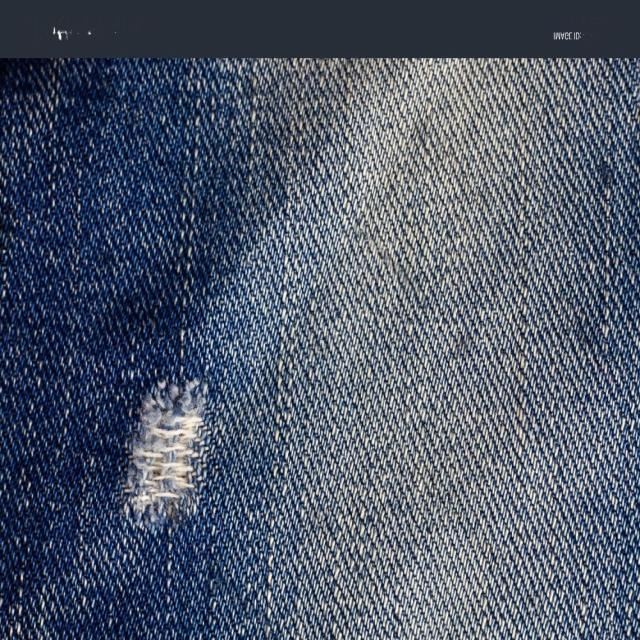Hole: (122, 379, 207, 530)
